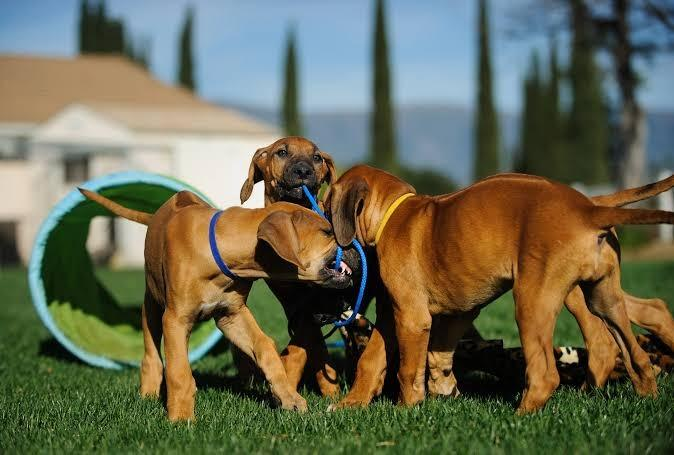puppy-dog: (321, 164, 674, 416), (78, 188, 356, 422), (426, 173, 674, 399), (238, 136, 351, 400)
